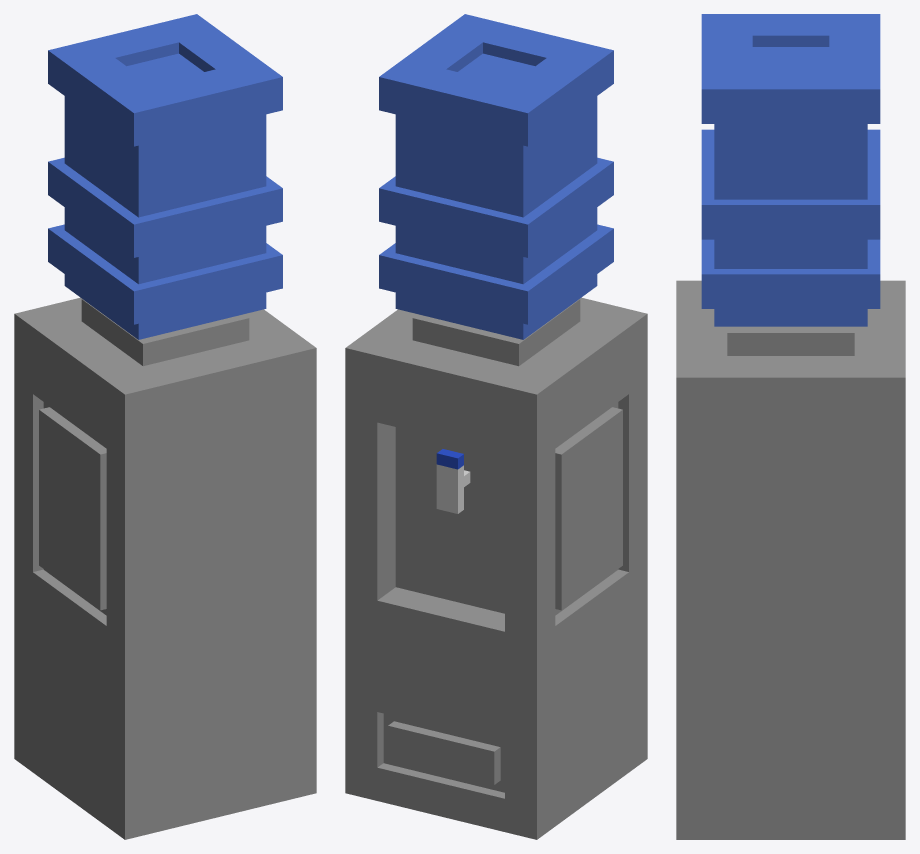
The model's file is water_dispenser_01.dae.
3 renders of one model, left to right at view 1: azimuth 30°, elevation 25°; view 2: azimuth 150°, elevation 25°; view 3: azimuth 270°, elevation 25°, orthographic. The views are drawn at different scales.
Visible parts, largest first — view 1: Untitled; view 2: Untitled; view 3: Untitled.
Boxes of the visible parts, <box> form: Untitled: <box>14,14,316,839</box>; Untitled: <box>345,14,647,839</box>; Untitled: <box>676,14,905,839</box>.
Bounding box in the file's own units: 0.54 × 0.54 × 1.92.
Materials: 1 (1 with a texture image).
